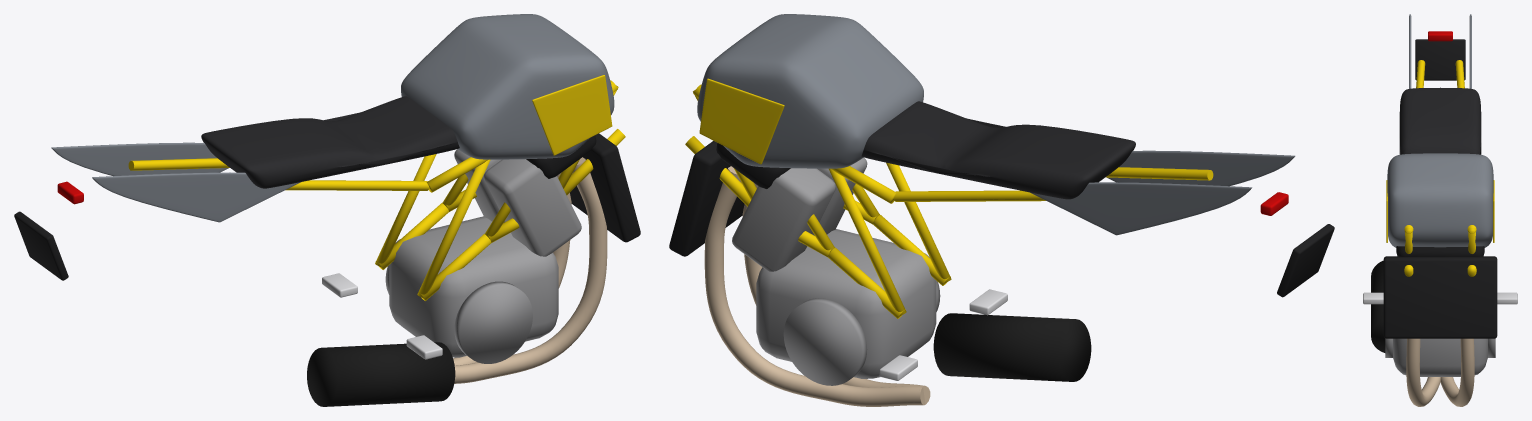
The model's file is NAKED890_Telaio.glb.
3 views of the same model, side by side, from view 1: azimuth 30°, elevation 25°; view 2: azimuth 150°, elevation 25°; view 3: azimuth 270°, elevation 25° (orthographic). The views are drawn at different scales.
Parts seen in each view (by area): view 1: NAKED890_Telaio; view 2: NAKED890_Telaio; view 3: NAKED890_Telaio.
Boxes of the visible parts, x1,y1,x2,y2 form: NAKED890_Telaio: [14, 14, 640, 406]; NAKED890_Telaio: [669, 14, 1334, 406]; NAKED890_Telaio: [1363, 14, 1517, 406].
Size of the model in its own units: 1.57 by 0.8653 by 0.49.
